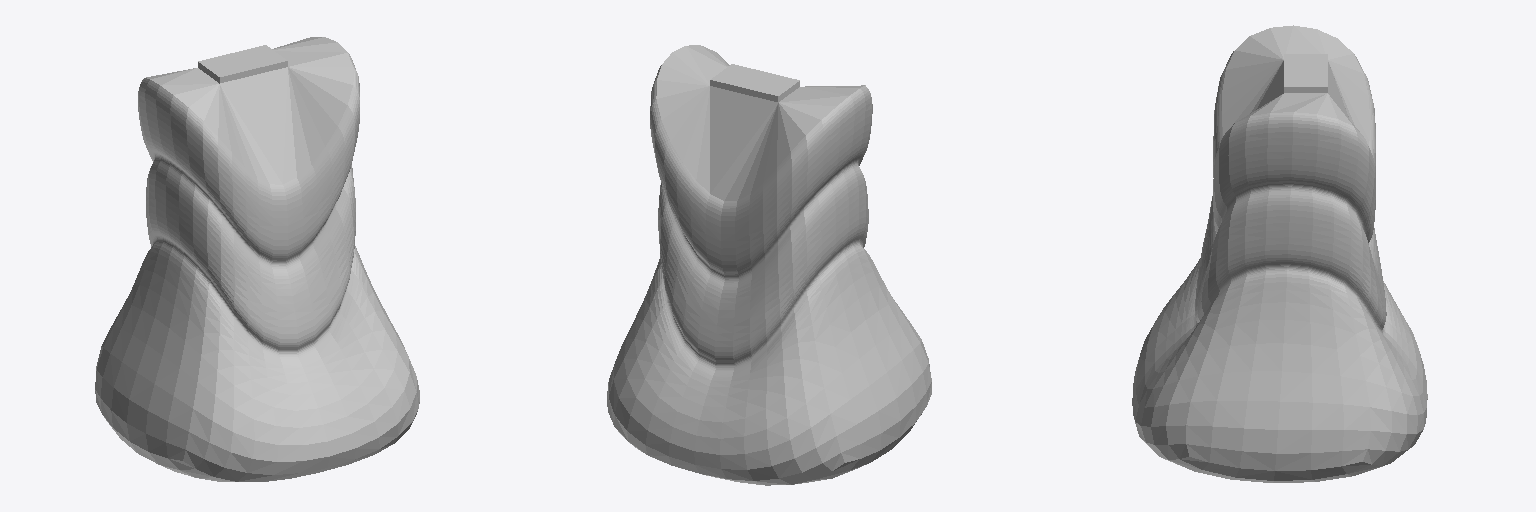
Rendered from pelvis_2_b.obj.
3 views of the same model, side by side, from view 1: azimuth 30°, elevation 25°; view 2: azimuth 150°, elevation 25°; view 3: azimuth 270°, elevation 25° (orthographic).
Visible parts, largest first — view 1: 3; view 2: 3; view 3: 3.
Part boxes in pixels (bbox=[...]): 3: bbox=[95, 37, 419, 481]; 3: bbox=[607, 45, 931, 485]; 3: bbox=[1132, 25, 1427, 482].
Size of the model in its own units: 0.1601 by 0.2184 by 0.1561.